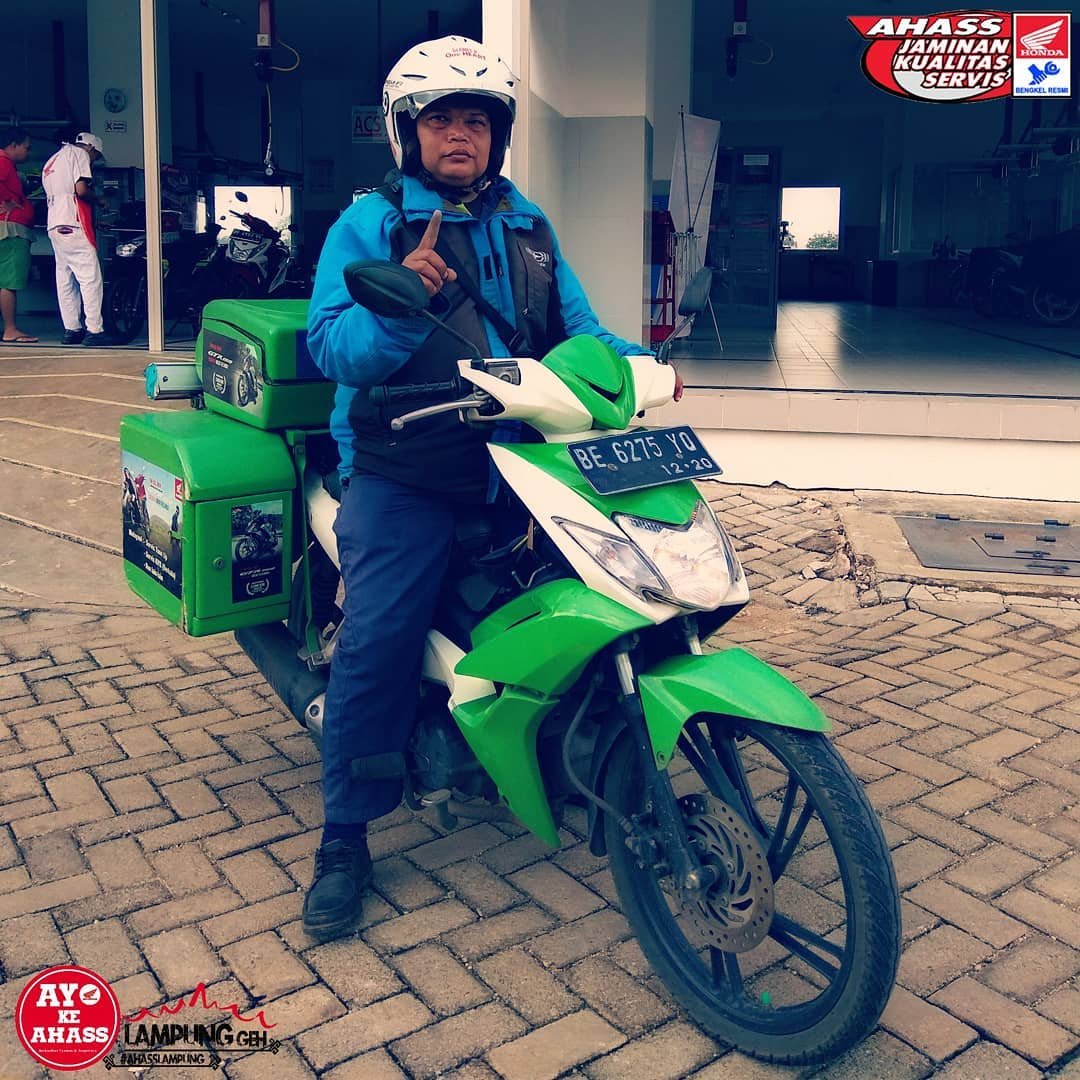plate: (565, 427, 725, 497)
